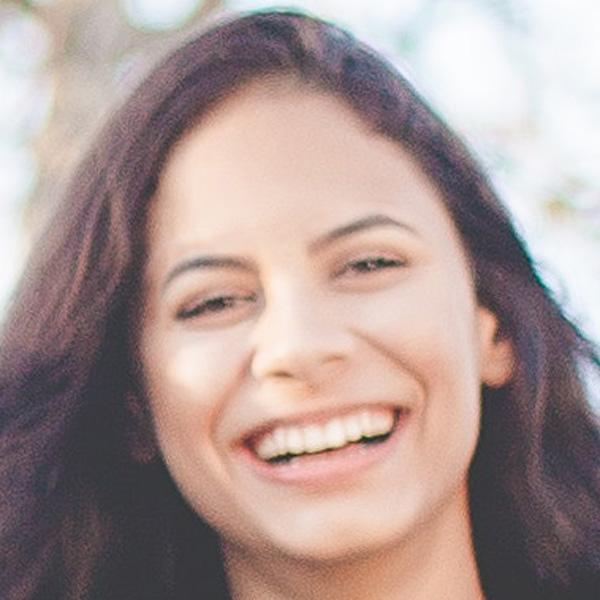Eyes: (166, 273, 264, 336), (314, 238, 414, 298)
